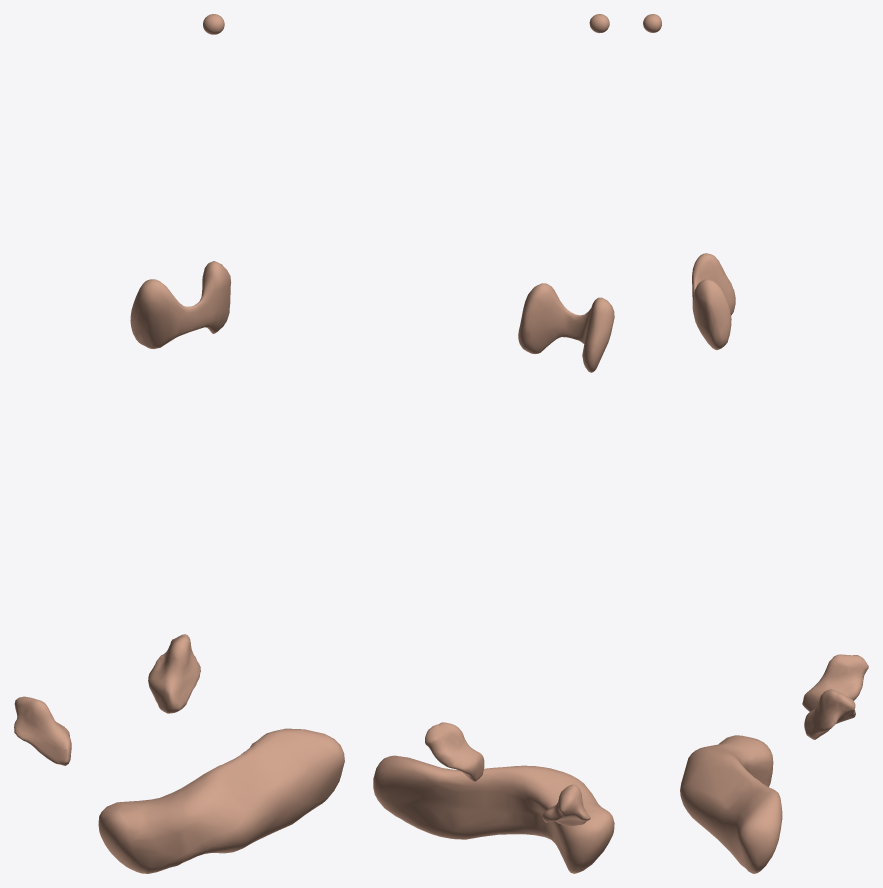
File: pediatric_child_10y_female.endocrine.LOD0.glb
3 renders of one model, left to right at view 1: azimuth 30°, elevation 25°; view 2: azimuth 150°, elevation 25°; view 3: azimuth 270°, elevation 25°, orthographic. The views are drawn at different scales.
Parts seen in each view (by area): view 1: PEDIATRIC.CHILD_10Y.FEMALE.ENDOCRINE.PANCREAS, PEDIATRIC.CHILD_10Y.FEMALE.ENDOCRINE.THYROID, PEDIATRIC.CHILD_10Y.FEMALE.ENDOCRINE.ADRENAL.L, PEDIATRIC.CHILD_10Y.FEMALE.ENDOCRINE.ADRENAL.R; view 2: PEDIATRIC.CHILD_10Y.FEMALE.ENDOCRINE.PANCREAS, PEDIATRIC.CHILD_10Y.FEMALE.ENDOCRINE.THYROID, PEDIATRIC.CHILD_10Y.FEMALE.ENDOCRINE.ADRENAL.L, PEDIATRIC.CHILD_10Y.FEMALE.ENDOCRINE.ADRENAL.R; view 3: PEDIATRIC.CHILD_10Y.FEMALE.ENDOCRINE.PANCREAS, PEDIATRIC.CHILD_10Y.FEMALE.ENDOCRINE.THYROID, PEDIATRIC.CHILD_10Y.FEMALE.ENDOCRINE.ADRENAL.R, PEDIATRIC.CHILD_10Y.FEMALE.ENDOCRINE.ADRENAL.L.
Part boxes in pixels (box(x1,y1,x2,y2)): PEDIATRIC.CHILD_10Y.FEMALE.ENDOCRINE.PANCREAS: box(98, 728, 344, 873); PEDIATRIC.CHILD_10Y.FEMALE.ENDOCRINE.THYROID: box(130, 261, 231, 348); PEDIATRIC.CHILD_10Y.FEMALE.ENDOCRINE.ADRENAL.L: box(148, 634, 200, 713); PEDIATRIC.CHILD_10Y.FEMALE.ENDOCRINE.ADRENAL.R: box(14, 696, 71, 765); PEDIATRIC.CHILD_10Y.FEMALE.ENDOCRINE.PANCREAS: box(373, 755, 614, 873); PEDIATRIC.CHILD_10Y.FEMALE.ENDOCRINE.THYROID: box(518, 283, 614, 372); PEDIATRIC.CHILD_10Y.FEMALE.ENDOCRINE.ADRENAL.L: box(425, 722, 484, 781); PEDIATRIC.CHILD_10Y.FEMALE.ENDOCRINE.ADRENAL.R: box(542, 784, 590, 826); PEDIATRIC.CHILD_10Y.FEMALE.ENDOCRINE.PANCREAS: box(680, 735, 782, 873); PEDIATRIC.CHILD_10Y.FEMALE.ENDOCRINE.THYROID: box(692, 253, 735, 349); PEDIATRIC.CHILD_10Y.FEMALE.ENDOCRINE.ADRENAL.R: box(802, 654, 868, 711); PEDIATRIC.CHILD_10Y.FEMALE.ENDOCRINE.ADRENAL.L: box(804, 689, 855, 739).
Bounding box in the file's own units: 0.133 × 0.4041 × 0.1033.
